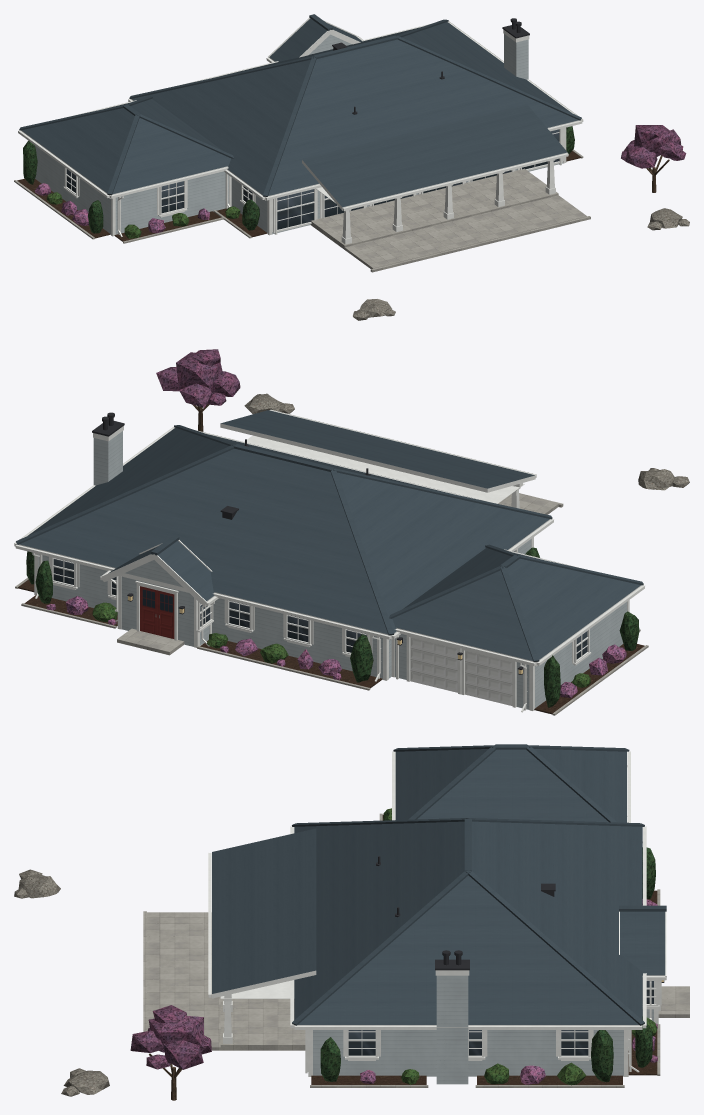
File: gulf_siding_ranch.fbx
3 views of the same model, one above another, from view 1: azimuth 30°, elevation 25°; view 2: azimuth 150°, elevation 25°; view 3: azimuth 270°, elevation 25° (orthographic). The views are drawn at different scales.
Visible parts, largest first — view 1: gulf_siding_ranch_LOD0; view 2: gulf_siding_ranch_LOD0; view 3: gulf_siding_ranch_LOD0.
Boxes of the visible parts, left/top/right/bottom form: gulf_siding_ranch_LOD0: left=14, top=14, right=689, bottom=320; gulf_siding_ranch_LOD0: left=14, top=349, right=689, bottom=715; gulf_siding_ranch_LOD0: left=14, top=744, right=689, bottom=1100.
Size of what is drawn, in the model's own units: 30.4 by 6.24 by 27.54.
2 materials, 2 textured.
